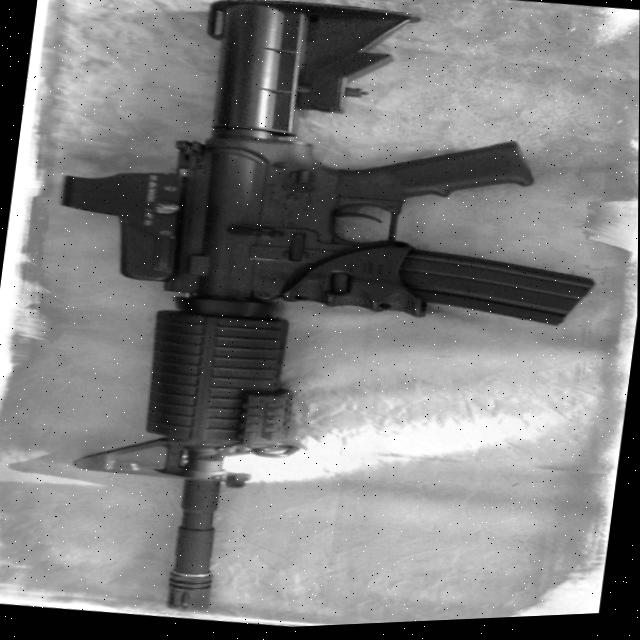firearm: (7, 0, 632, 640)
